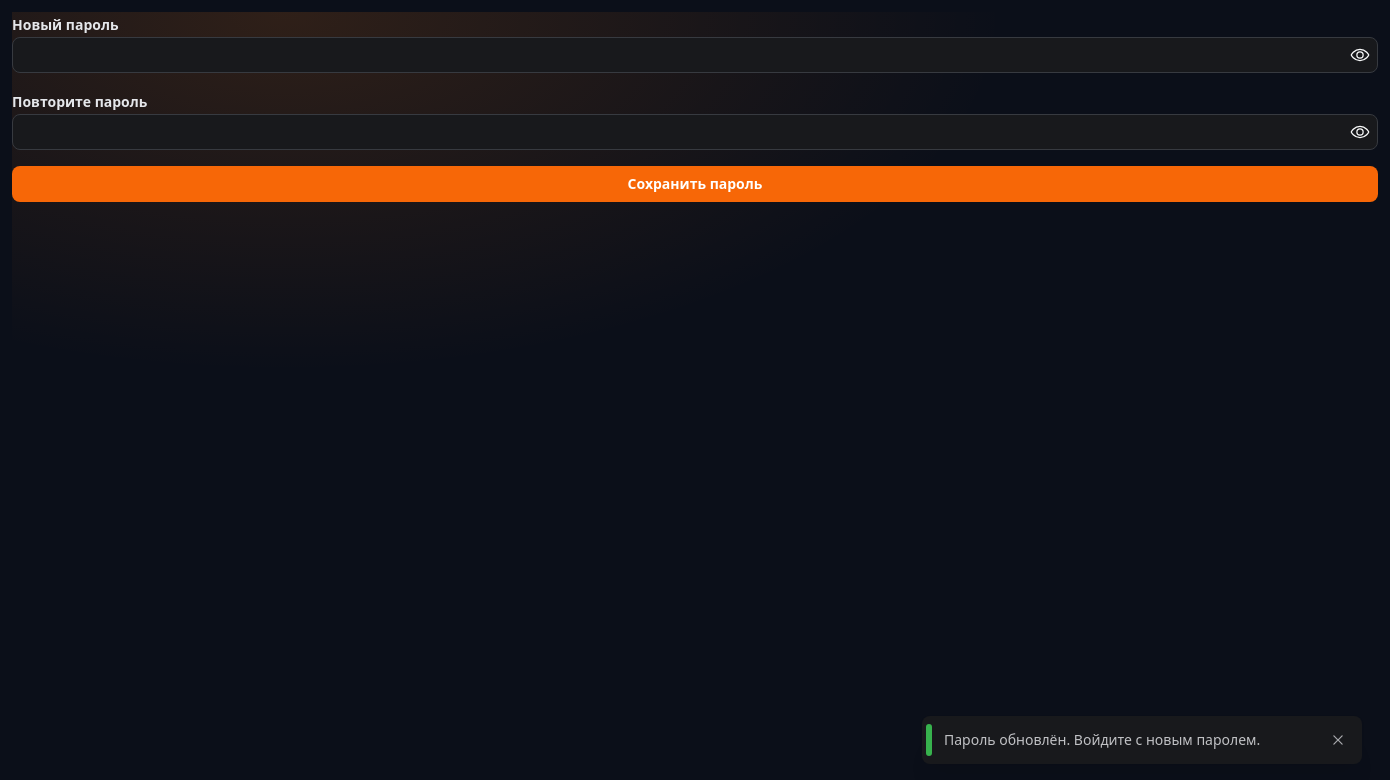
ResetPasswordForm › shows an error when the token is rejected
Type "newpass1" into the password field labelled "Новый пароль" at (695,55), box top-left (13, 38), bottom-right (1377, 72)
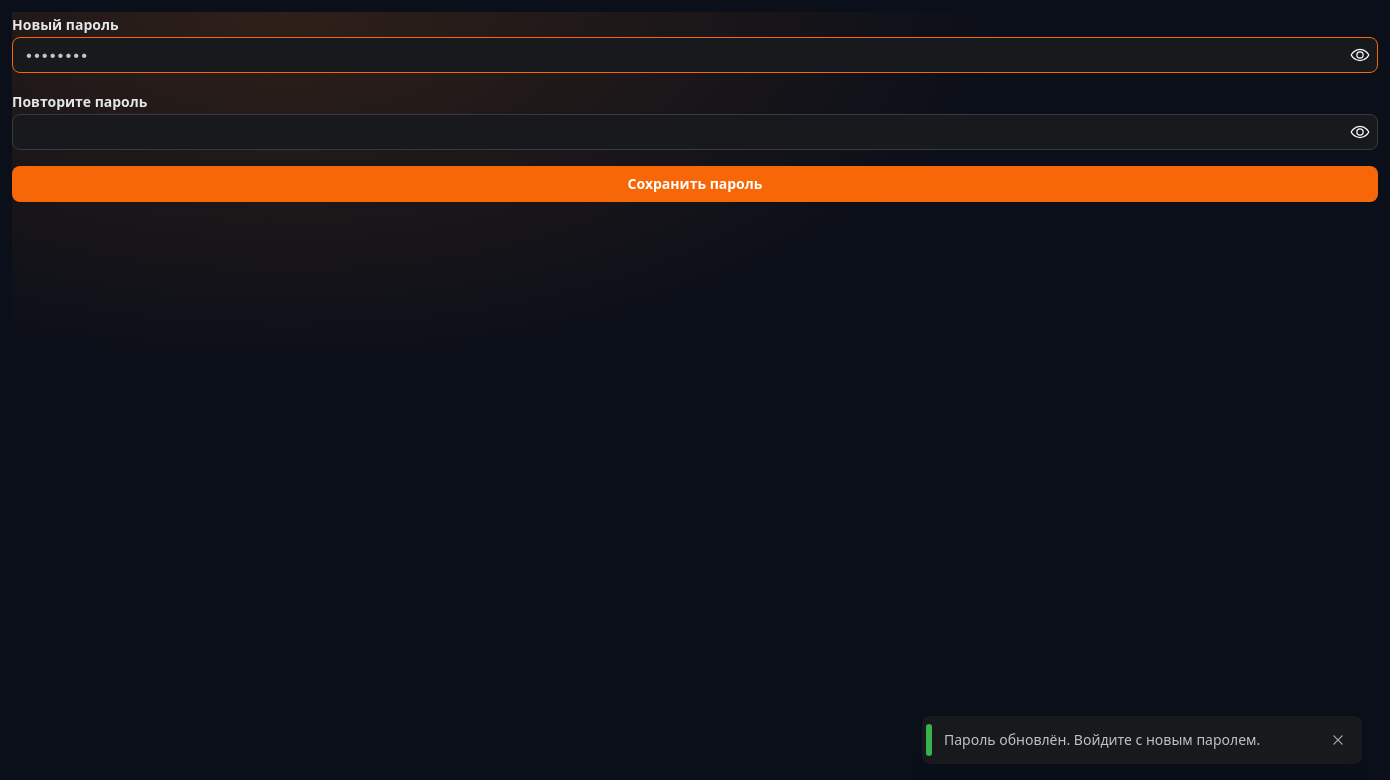
Type "newpass1" into the password field labelled "Повторите пароль" at (695,132), box top-left (13, 115), bottom-right (1377, 149)
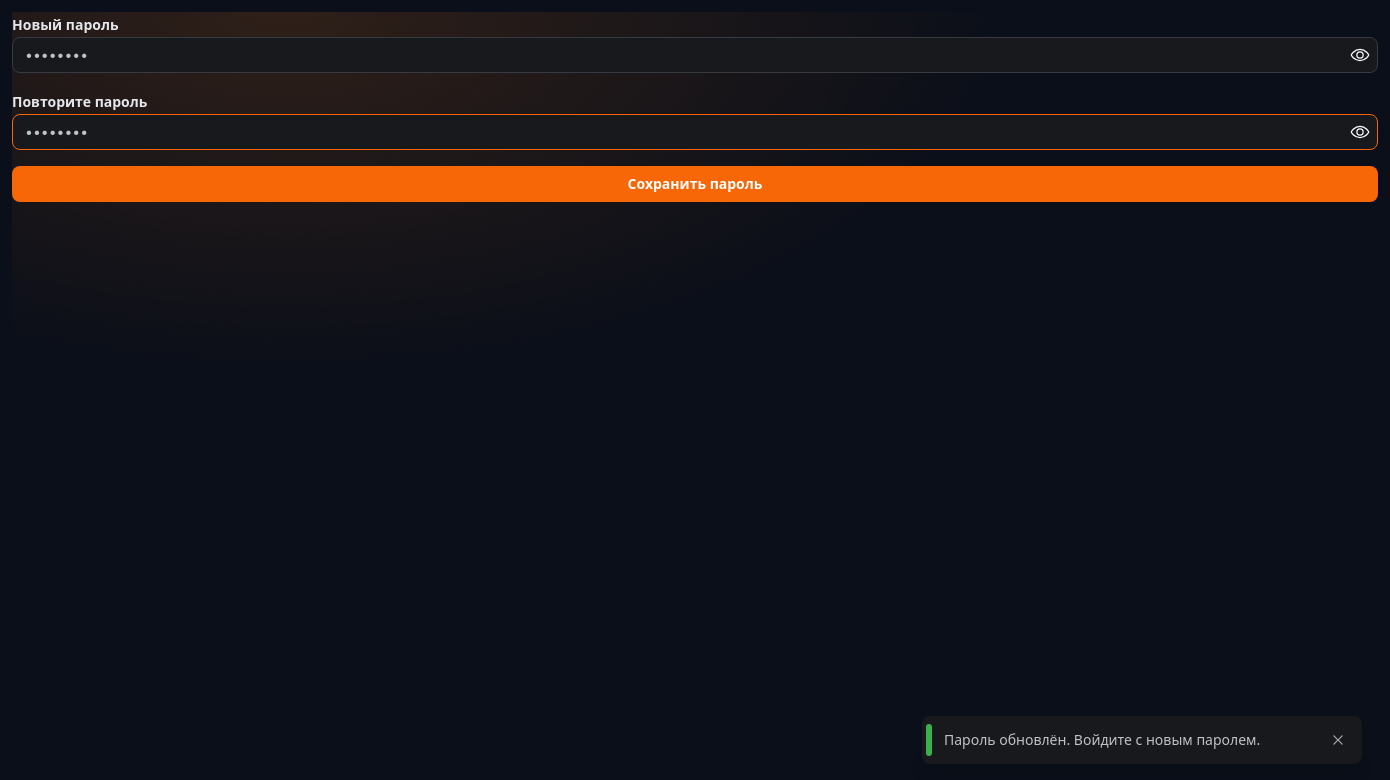
Click the button "Сохранить пароль" at (695,184), box top-left (12, 166), bottom-right (1378, 202)
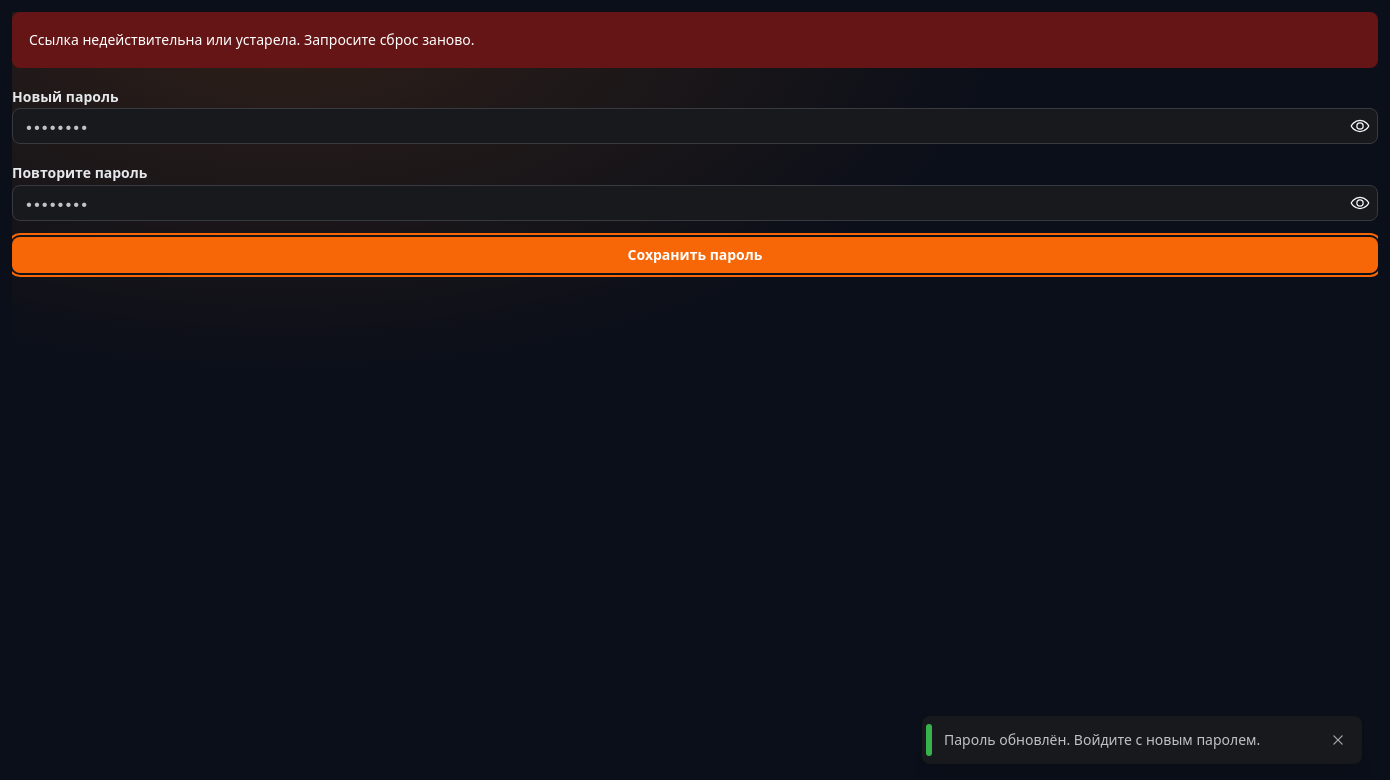
Check: the text "Ссылка недействительна или устарела. Запросите сброс заново." is shown, box top-left (29, 30), bottom-right (475, 49)
